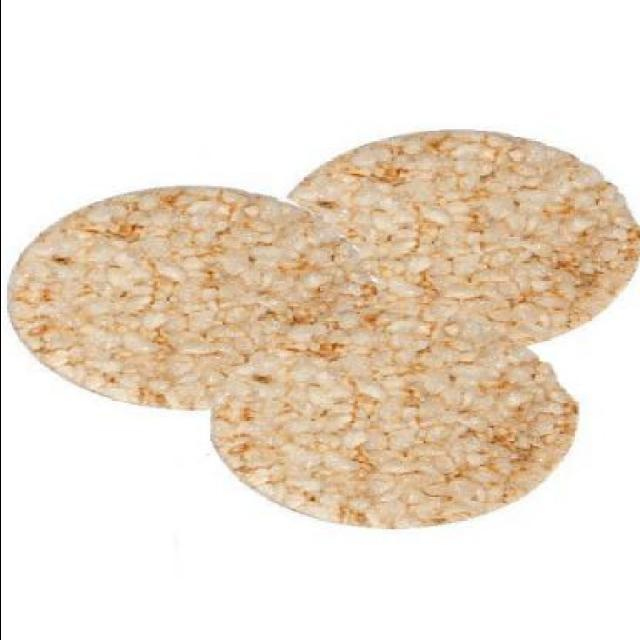Gallette di riso packaged: (196, 294, 587, 536), (11, 187, 391, 416), (284, 130, 638, 358)
